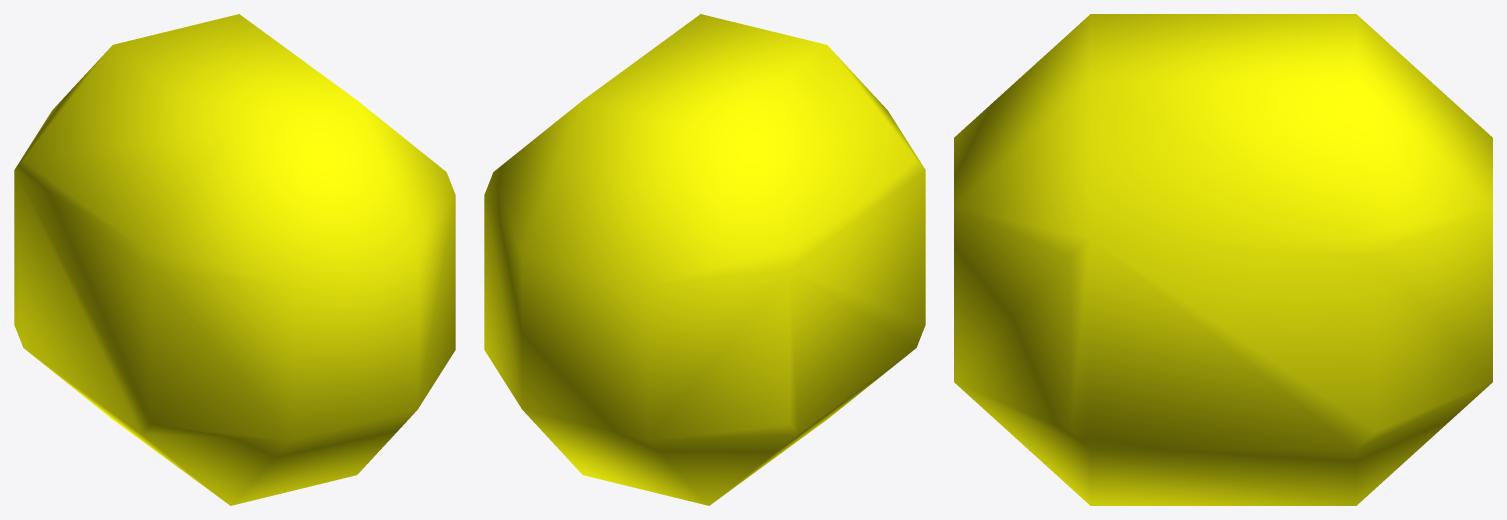
File: gripper_base_link.bbox.gltf
3 views of the same model, side by side, from view 1: azimuth 30°, elevation 25°; view 2: azimuth 150°, elevation 25°; view 3: azimuth 270°, elevation 25° (orthographic). The views are drawn at different scales.
Parts seen in each view (by area): view 1: gripper_base_link.bbox; view 2: gripper_base_link.bbox; view 3: gripper_base_link.bbox.
Boxes of the visible parts, bbox=[...] form: gripper_base_link.bbox: bbox=[14, 14, 455, 505]; gripper_base_link.bbox: bbox=[484, 14, 925, 505]; gripper_base_link.bbox: bbox=[954, 14, 1492, 505].
Size of the model in its own units: 0.066 by 0.0774 by 0.0895.
